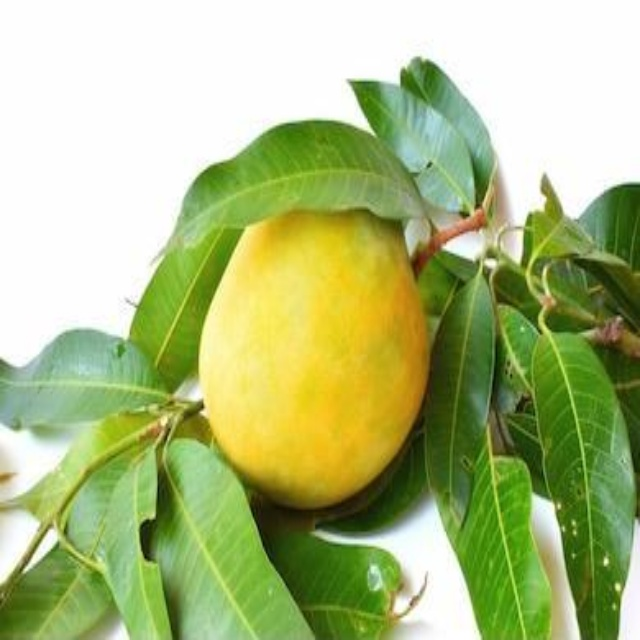mango: (204, 194, 432, 509)
